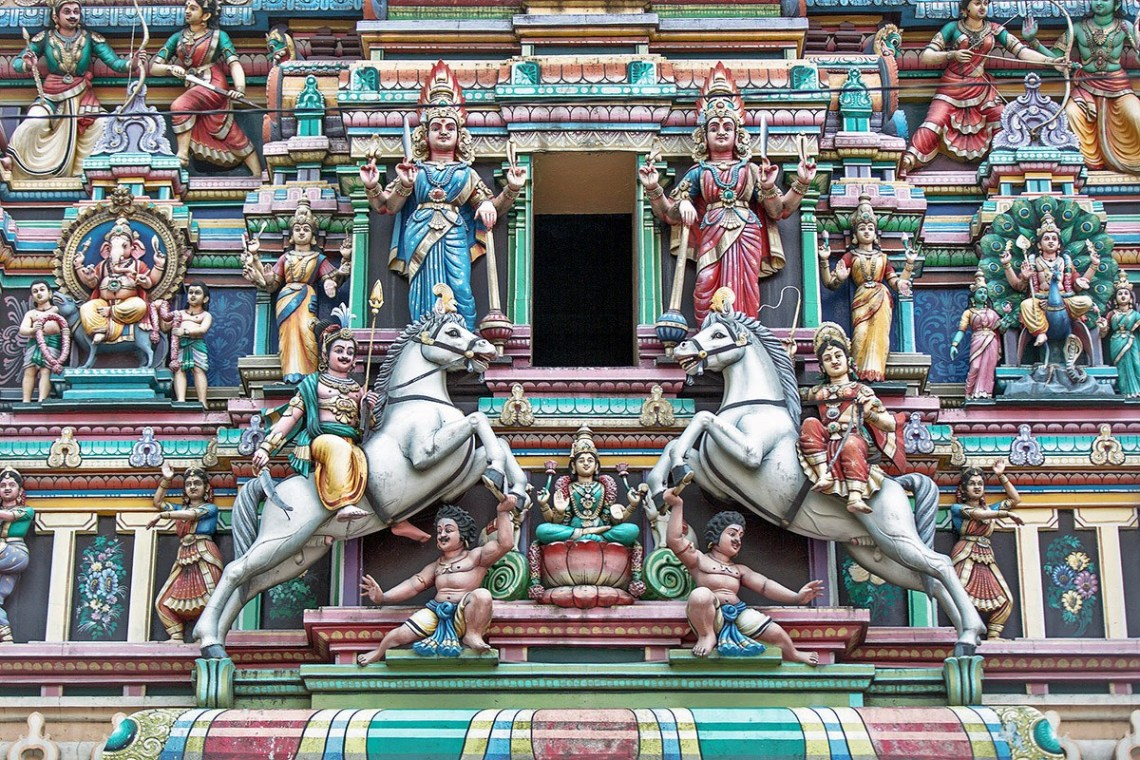Hindu Temple: (1, 1, 1128, 725)
